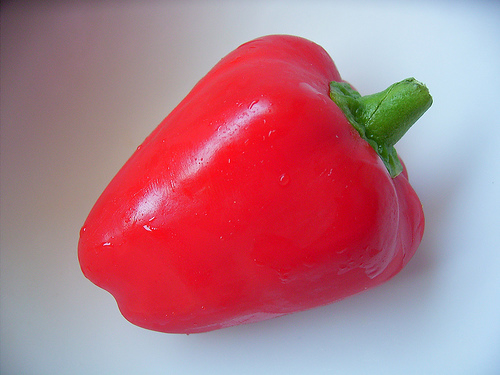capsicum: (52, 35, 431, 337)
